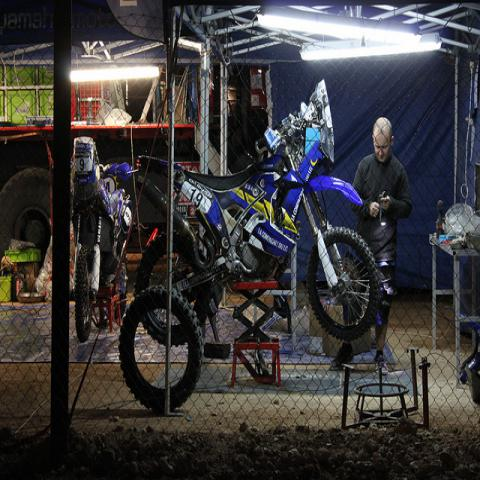motorcycle: (133, 83, 381, 348), (70, 137, 136, 344)
